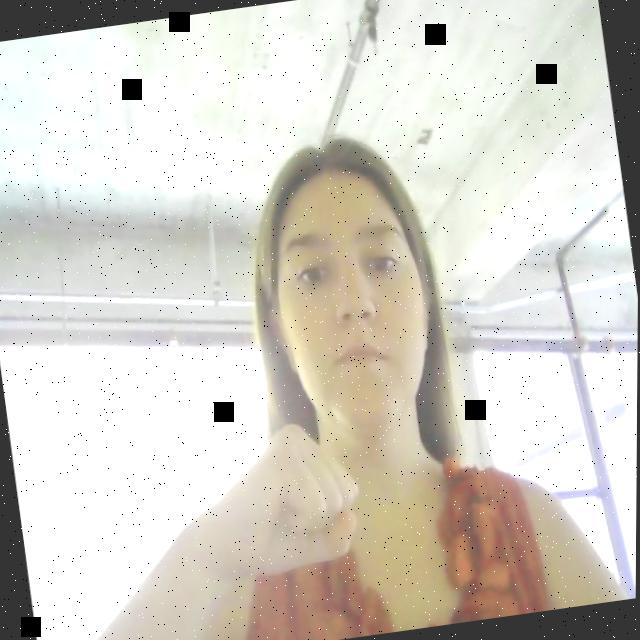Rock: (210, 402, 383, 603)
